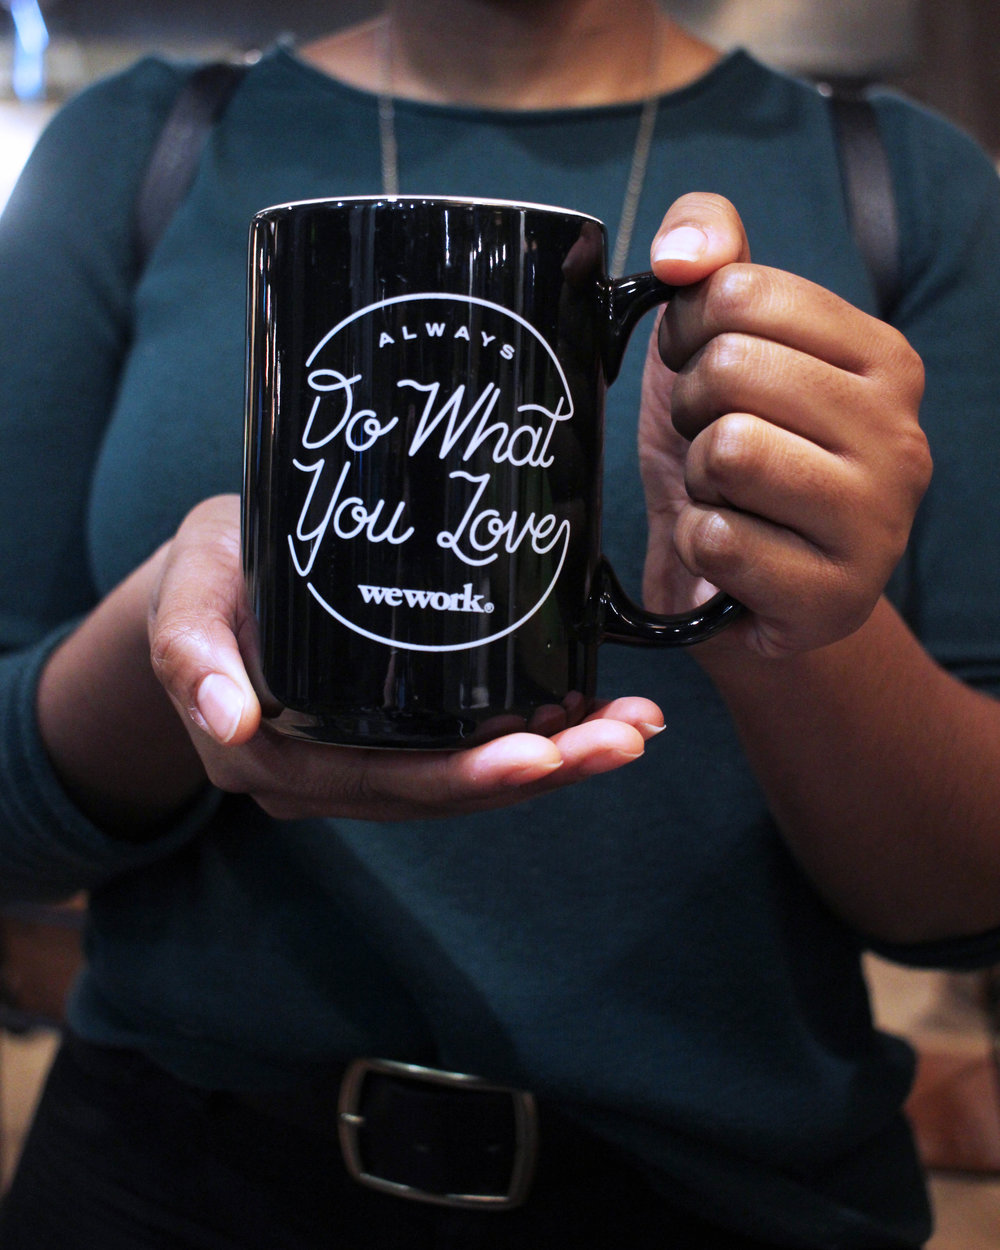wework: (356, 577, 485, 619)
